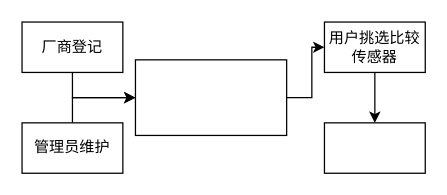
The diagram is 447 pixels wide and 195 high, and some of its shapes have lost their labels. Each missing label, with the centre of its shape:
"传感器信息管理系统" goes at (x=210, y=97).
"联系厂商购买" goes at (x=374, y=147).
